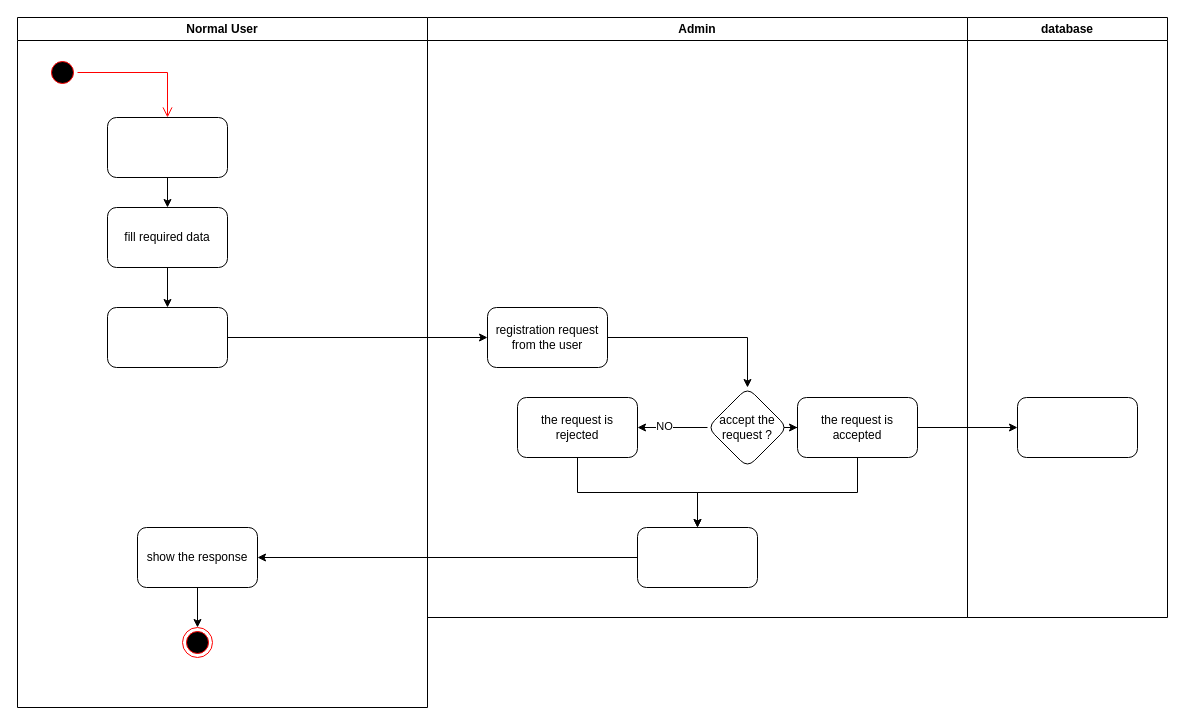
The diagram is 1185 pixels wide and 725 high, and some of its shapes have lost their labels. Here are the shapes that lost their labels. From the top down, the centre of each, then its label:
At (167,147): "open Register page".
At (167,337): "click on register".
At (1077,427): "new User is added to the database".
At (697,557): "send the request back to the user".
